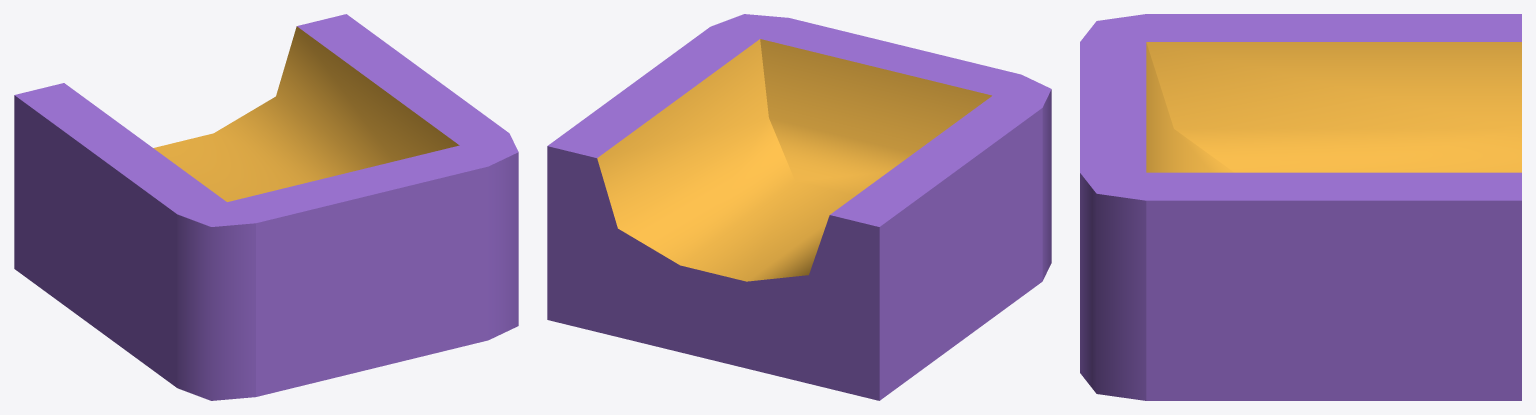
File: end-rounded.glb
3 views of the same model, side by side, from view 1: azimuth 30°, elevation 25°; view 2: azimuth 150°, elevation 25°; view 3: azimuth 270°, elevation 25° (orthographic). The views are drawn at different scales.
Visible parts, largest first — view 1: end-rounded; view 2: end-rounded; view 3: end-rounded.
Part boxes in pixels (box(x1,y1,x2,y2)): end-rounded: box(14, 14, 518, 400); end-rounded: box(547, 14, 1051, 400); end-rounded: box(1080, 14, 1521, 400).
Bounding box in the file's own units: 1 × 0.5001 × 1.
1 material, 1 textured.
